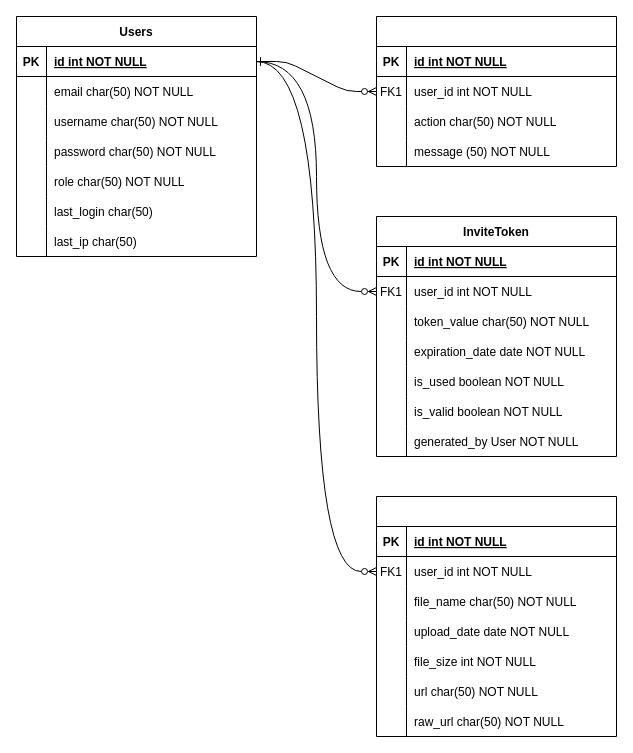
Some shapes in this 633 by 753 pixel diagram are drawn without their labels. The shapes that lost their labels are listed below. From the top down, each one's box as (x1, y1, x2, y2) in pixels, then its label:
(376, 16, 616, 166): Audit
(376, 496, 616, 736): Uploads
